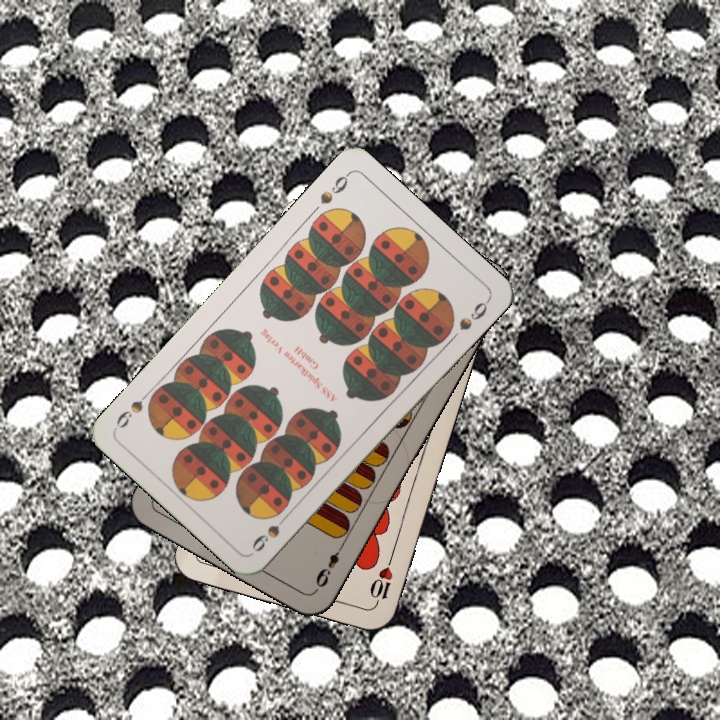E9: (311, 539, 347, 591)
H10: (365, 552, 396, 610)
S9: (247, 507, 293, 554), (316, 168, 353, 207)
